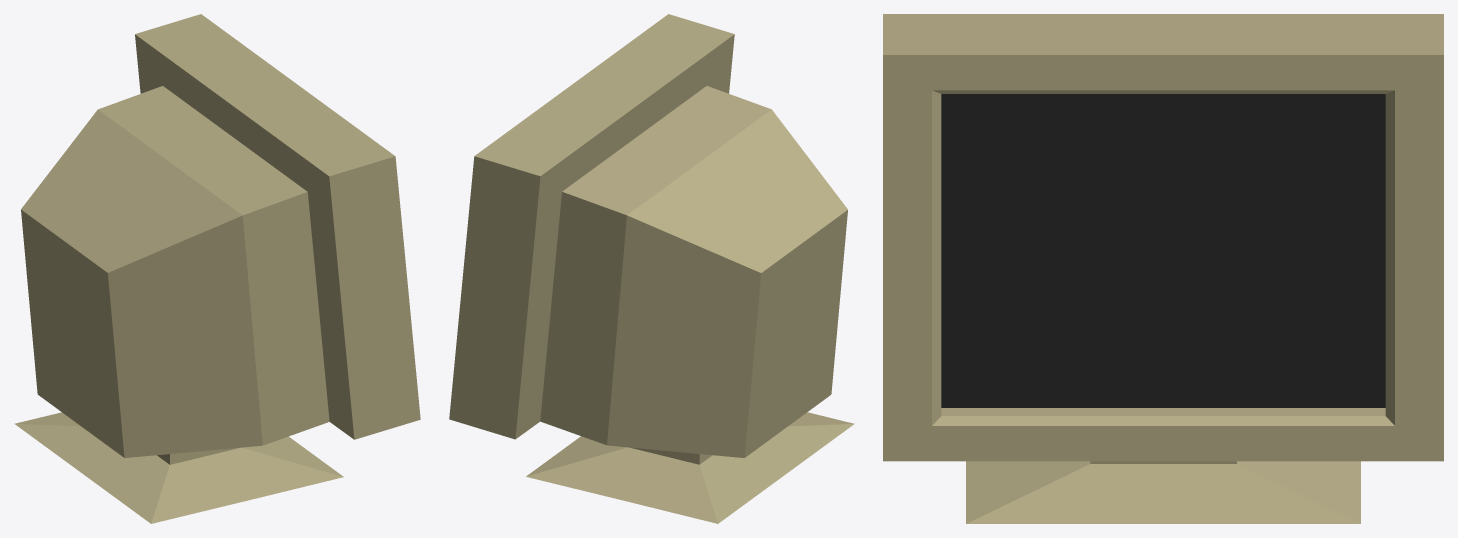
File: crtmonitor.fbx
3 renders of one model, left to right at view 1: azimuth 30°, elevation 25°; view 2: azimuth 150°, elevation 25°; view 3: azimuth 270°, elevation 25°, orthographic. The views are drawn at different scales.
Parts seen in each view (by area): view 1: Cube; view 2: Cube; view 3: Cube.
Part boxes in pixels (left/top/right/bottom): Cube: left=14, top=14, right=420, bottom=523; Cube: left=449, top=14, right=854, bottom=523; Cube: left=883, top=14, right=1443, bottom=523.
Size of the model in its own units: 154 by 191 by 200.
